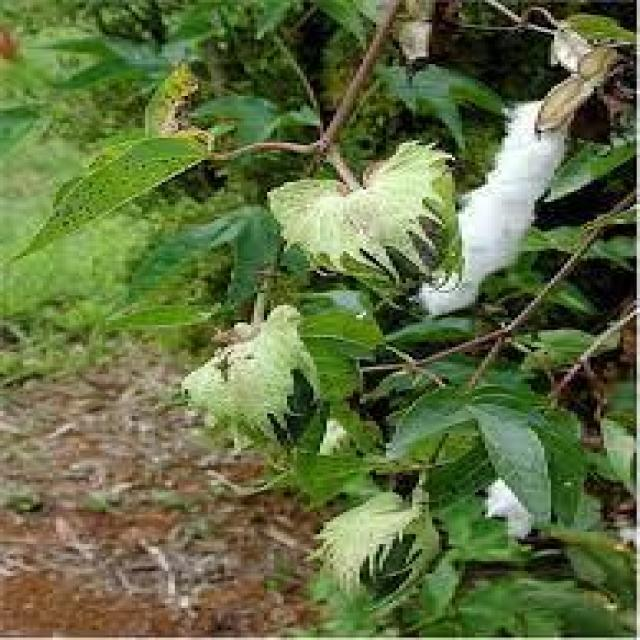Late_blight: (410, 87, 601, 328)
